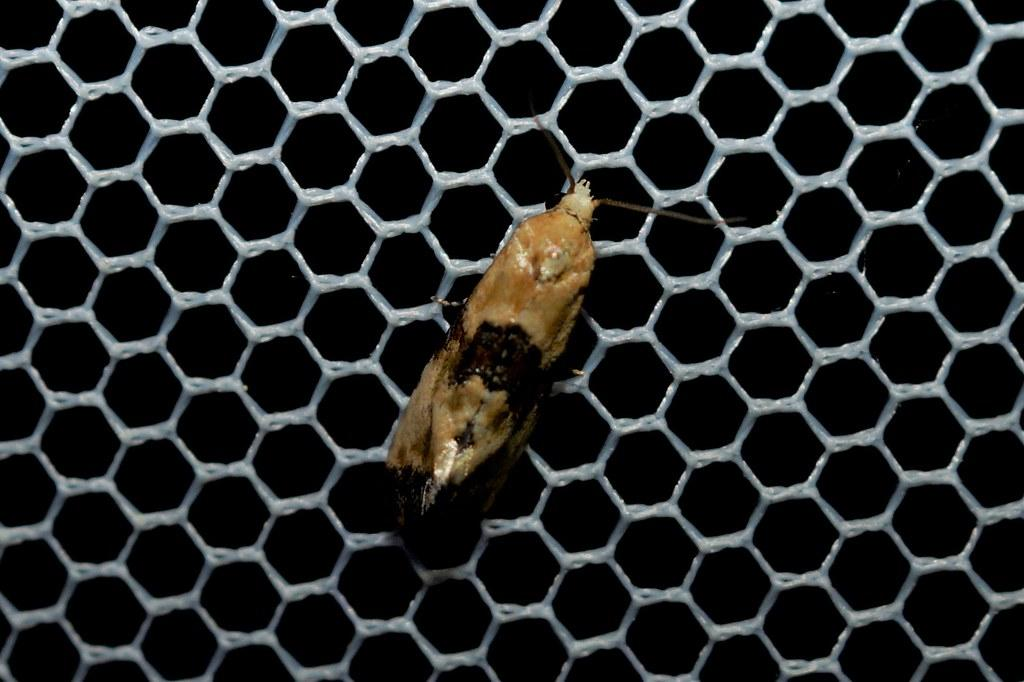Eupoecilia Ambiguella: (380, 101, 745, 571)
